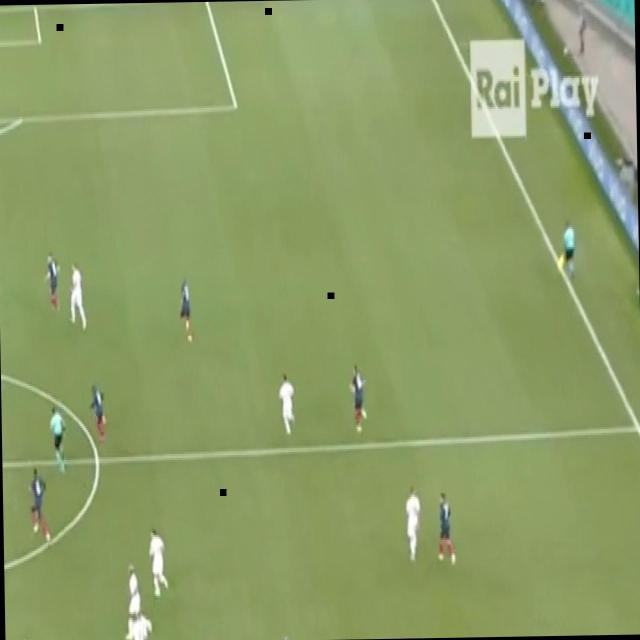player-white: (120, 556, 154, 640), (24, 464, 54, 548), (145, 526, 171, 602), (435, 488, 457, 573), (46, 400, 68, 484), (275, 367, 298, 447), (346, 359, 369, 435), (70, 261, 90, 343), (403, 482, 423, 562), (176, 269, 195, 349), (560, 214, 580, 290), (42, 248, 61, 320), (87, 381, 108, 444), (126, 607, 147, 640), (16, 629, 38, 640), (276, 628, 296, 640)
